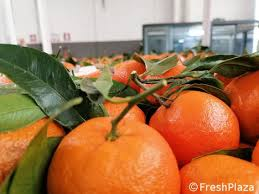orange: (45, 113, 182, 194), (148, 86, 241, 163)
